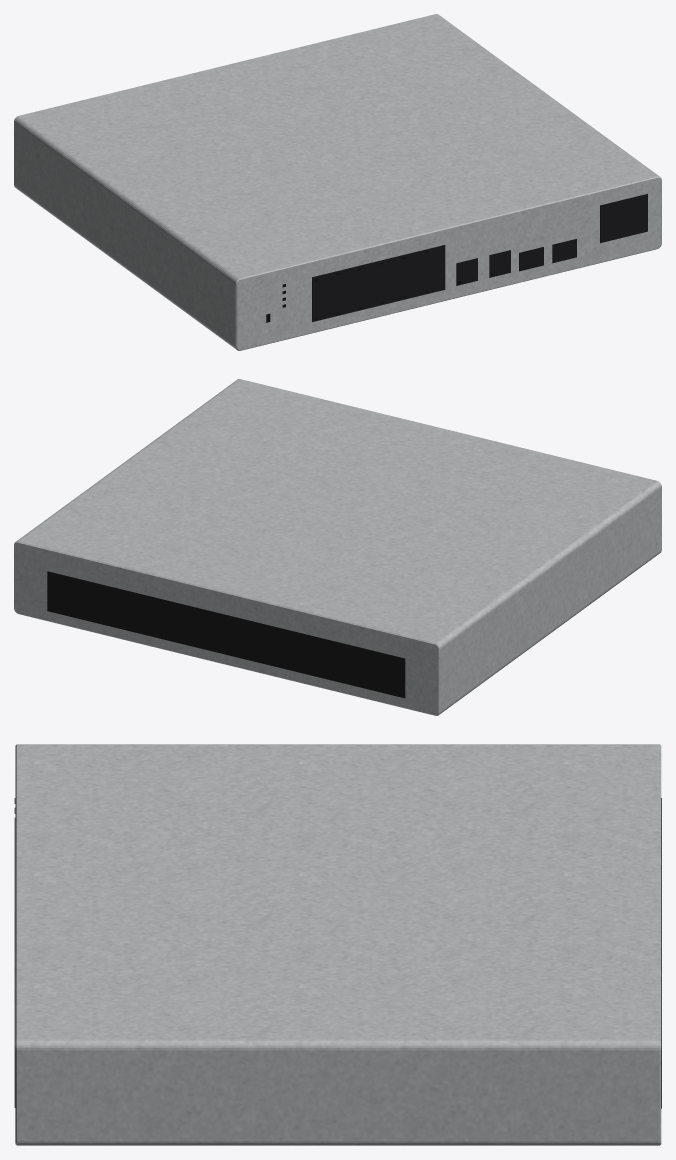
The model's file is C9200CX-12P-2X2G.far.glb.
The picture shows the model from 3 angles, top to bottom: view 1: azimuth 30°, elevation 25°; view 2: azimuth 150°, elevation 25°; view 3: azimuth 270°, elevation 25°; orthographic projection. The views are drawn at different scales.
Visible parts, largest first — view 1: Shell_far; view 2: Shell_far; view 3: Shell_far.
Boxes of the visible parts, x1,y1,x2,y2 form: Shell_far: [14, 14, 661, 350]; Shell_far: [14, 379, 661, 715]; Shell_far: [14, 744, 661, 1145].
Bounding box in the file's own units: 0.2692 × 0.0439 × 0.2446.
3 materials, 2 textured.
